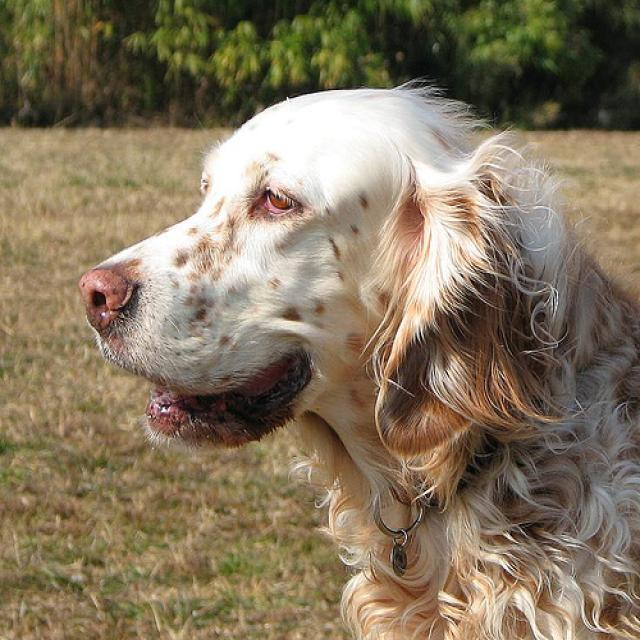dog-english_setter: (73, 74, 637, 637)
